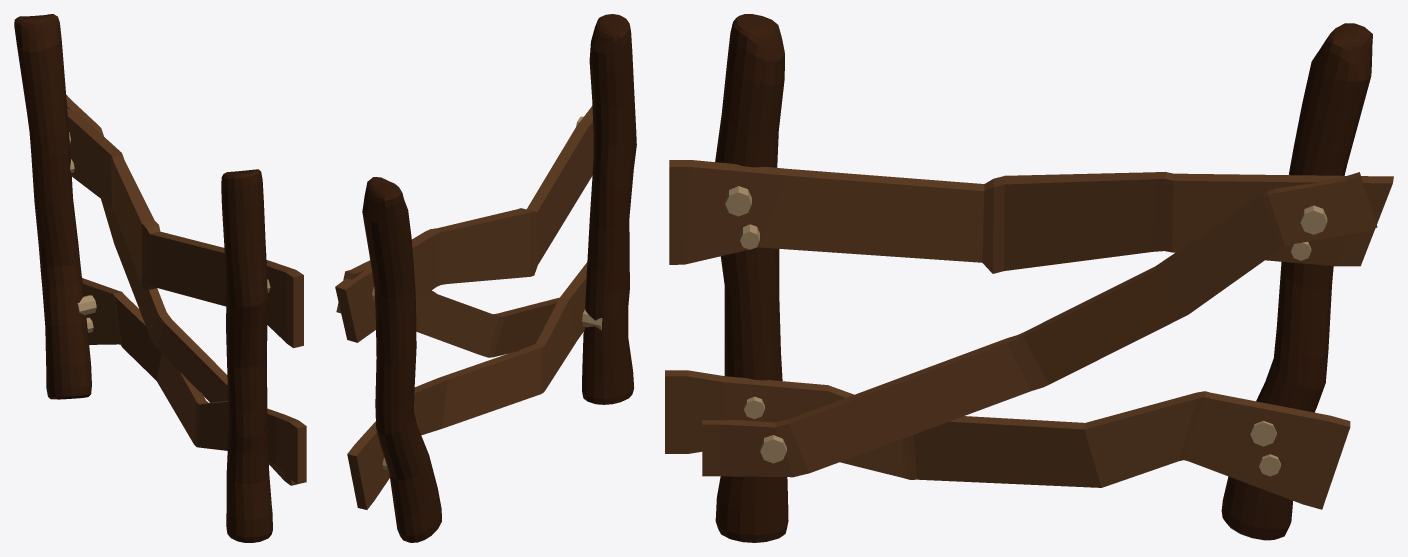
Rendered from Fence.fbx.
3 views of the same model, side by side, from view 1: azimuth 30°, elevation 25°; view 2: azimuth 150°, elevation 25°; view 3: azimuth 270°, elevation 25° (orthographic). The views are drawn at different scales.
Parts seen in each view (by area): view 1: Right, Left, Top, Bottom, Diag; view 2: Left, Right, Top, Bottom, Diag; view 3: Top, Diag, Bottom, Left, Right.
Boxes of the visible parts, x1,y1,x2,y2 form: Right: (14,14,91,399); Left: (221,169,272,542); Top: (67,107,303,348); Bottom: (82,278,306,484); Diag: (66,94,296,485); Left: (582,14,636,404); Right: (362,177,441,542); Top: (335,106,593,342); Bottom: (347,262,587,509); Diag: (336,260,559,357); Top: (669,160,1393,273); Diag: (702,172,1377,477); Bottom: (665,370,1350,509); Left: (715,14,788,542); Right: (1221,23,1372,540).
Bounding box in the file's own units: 220 × 1131 × 1461.
